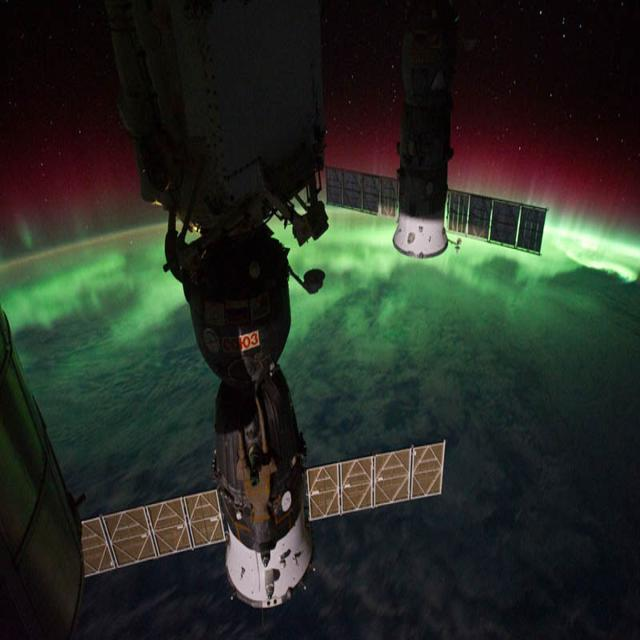satellite: (73, 62, 464, 613), (328, 73, 552, 270)
